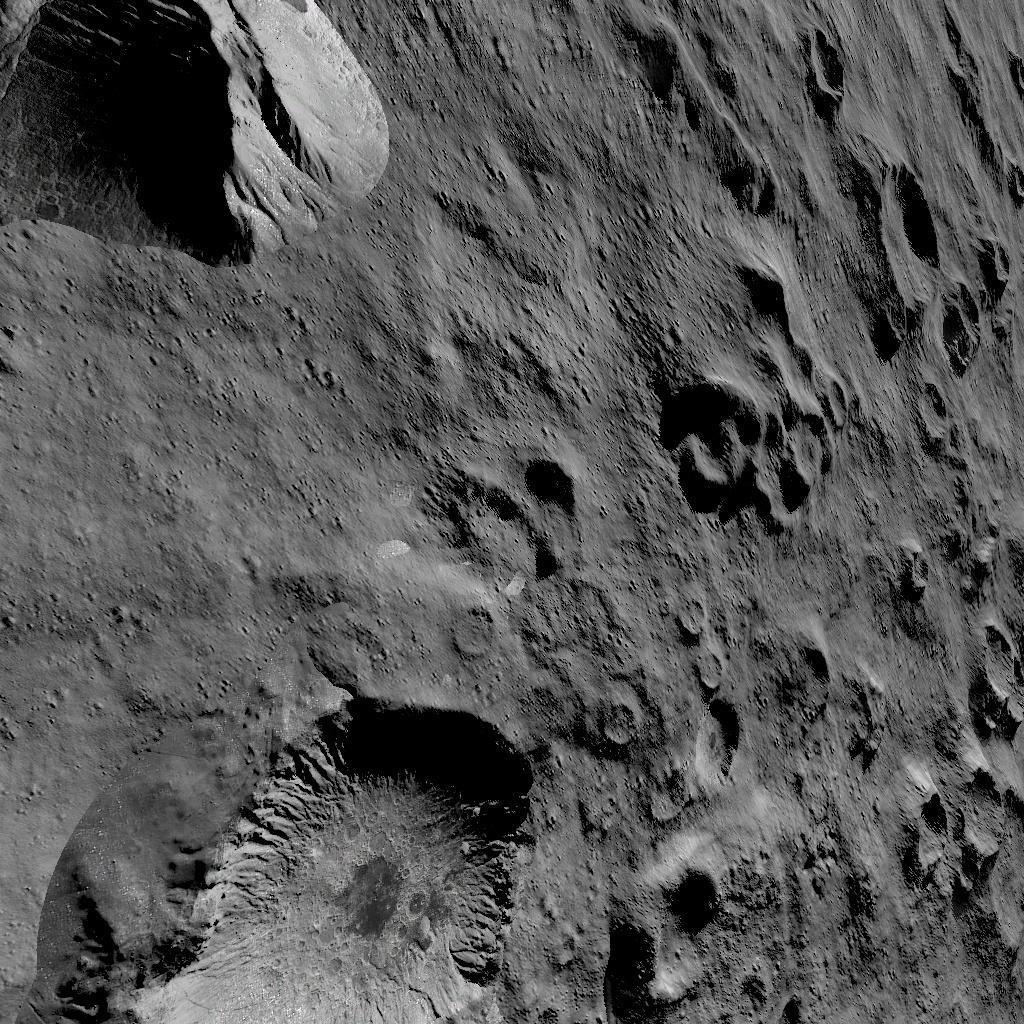Boulders: (3, 0, 391, 260)
Crater: (3, 700, 522, 1024), (586, 838, 792, 1024), (627, 356, 818, 537), (890, 736, 1024, 918), (420, 464, 576, 582), (646, 600, 735, 777), (918, 243, 1024, 380), (834, 167, 910, 348), (927, 611, 1024, 724), (776, 32, 846, 116), (773, 642, 826, 724), (440, 602, 502, 664), (902, 388, 952, 456), (876, 538, 924, 606), (582, 698, 636, 753), (989, 60, 1024, 108), (990, 168, 1024, 210)
Plan surface: (0, 268, 379, 688), (407, 2, 616, 452)
